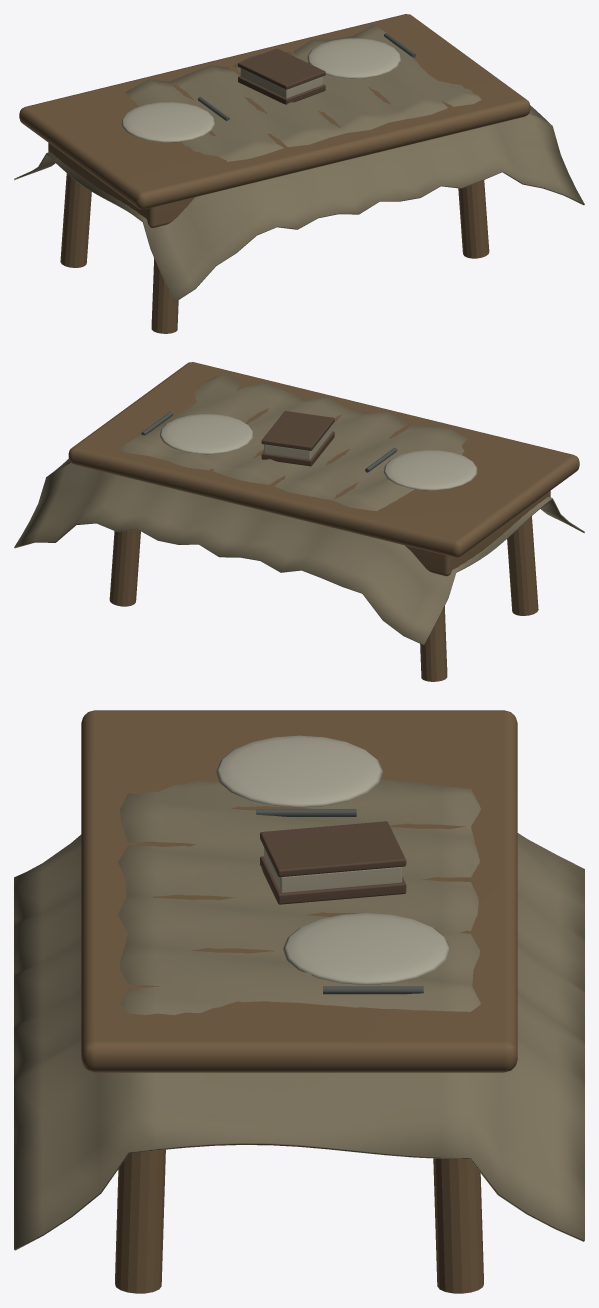
File: dining.glb
3 renders of one model, top to bottom at view 1: azimuth 30°, elevation 25°; view 2: azimuth 150°, elevation 25°; view 3: azimuth 270°, elevation 25°, orthographic. The views are drawn at different scales.
Parts seen in each view (by area): view 1: dining; view 2: dining; view 3: dining.
Boxes of the visible parts, x1,y1,x2,y2 form: dining: [14, 14, 584, 333]; dining: [14, 362, 584, 681]; dining: [14, 710, 584, 1293].
Bounding box in the file's own units: 2.6 × 1.05 × 1.7.
